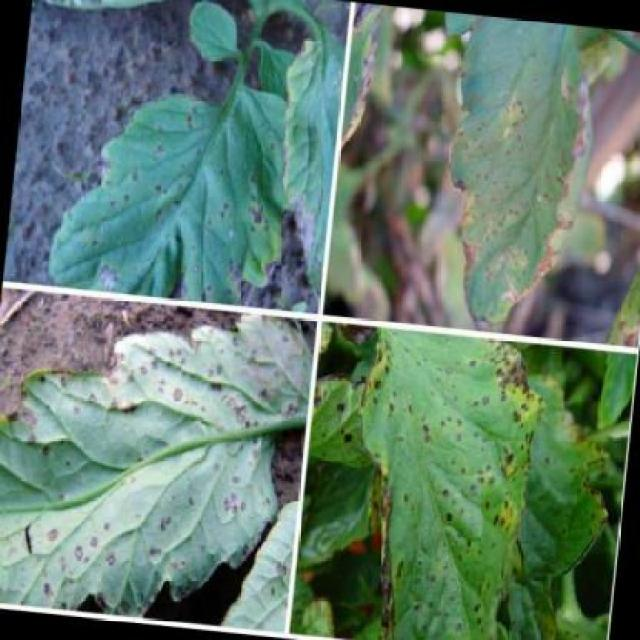Tomato leaf bacterial spot: (1, 293, 303, 627), (321, 321, 552, 639), (49, 16, 298, 304), (415, 24, 598, 338)
